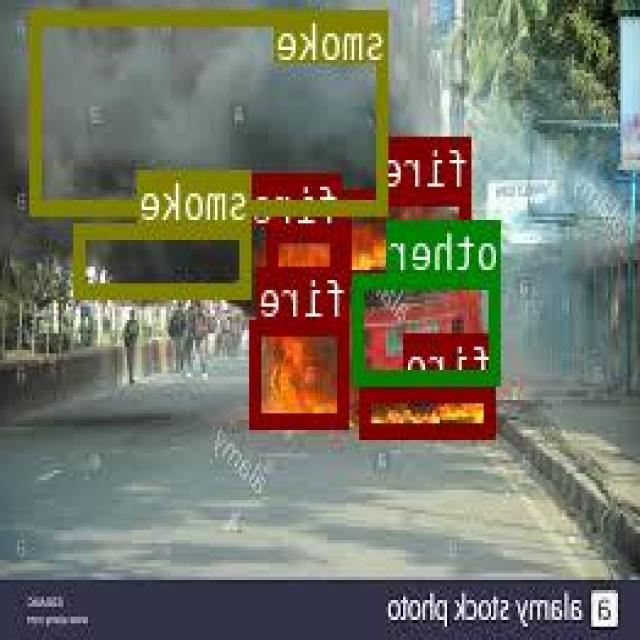fire: (344, 188, 473, 282), (252, 316, 350, 426), (364, 384, 497, 436), (270, 226, 342, 309)
other: (354, 272, 503, 382)
smoke: (32, 7, 390, 212), (77, 220, 252, 296)
